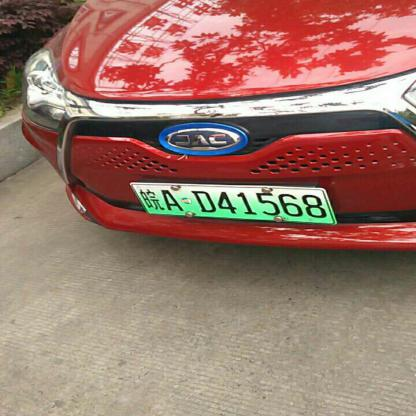lp: (132, 184, 334, 221)
